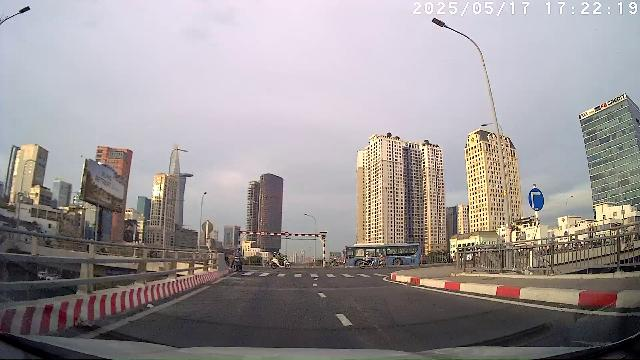301d-cac-xe-chi-duoc-re-phai-2: (528, 187, 544, 211)
